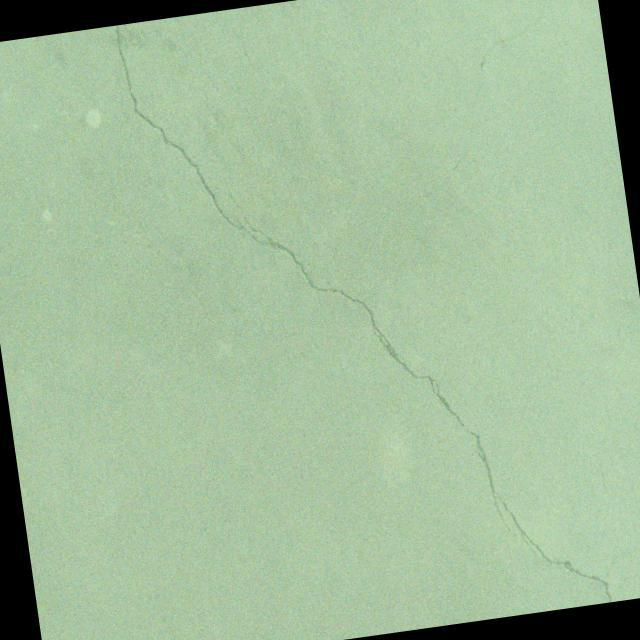crack: (114, 0, 633, 640)
